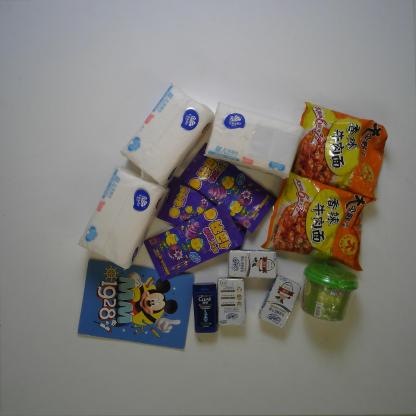Candy: (177, 139, 277, 233), (139, 203, 244, 281), (152, 174, 250, 250)
Instant Drink: (301, 260, 361, 323)
Instant Noodles: (260, 167, 375, 272), (288, 99, 388, 201)
Milk: (257, 273, 302, 329), (226, 249, 278, 278), (217, 277, 246, 328)
Personal Hygiene: (192, 282, 219, 333)
Stationery: (76, 257, 196, 352)
Tissue: (76, 166, 172, 270), (120, 83, 215, 186), (202, 102, 305, 179)
